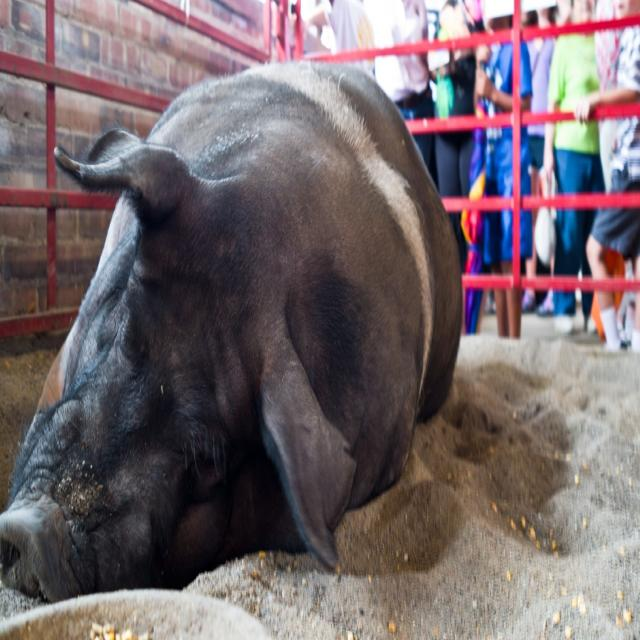pig: (0, 62, 464, 606)
